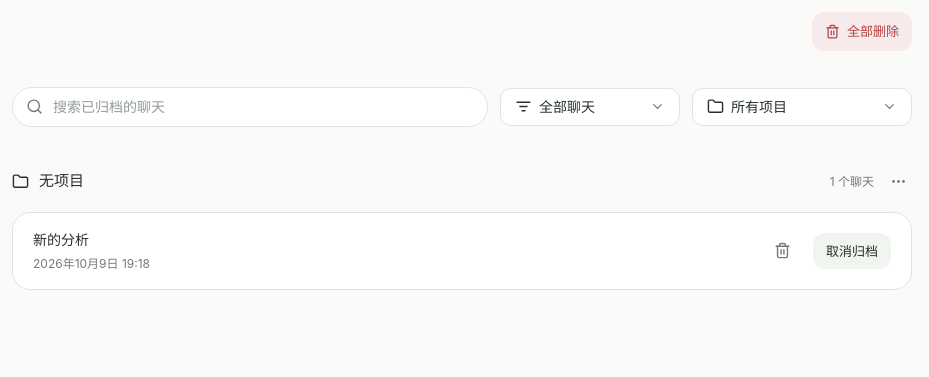
it: failed restore keeps history visible, reports the error and permits a successful retry
Click the button named "取消归档 新的分析" at {"x": 852, "y": 251}, box [813, 233, 891, 269]
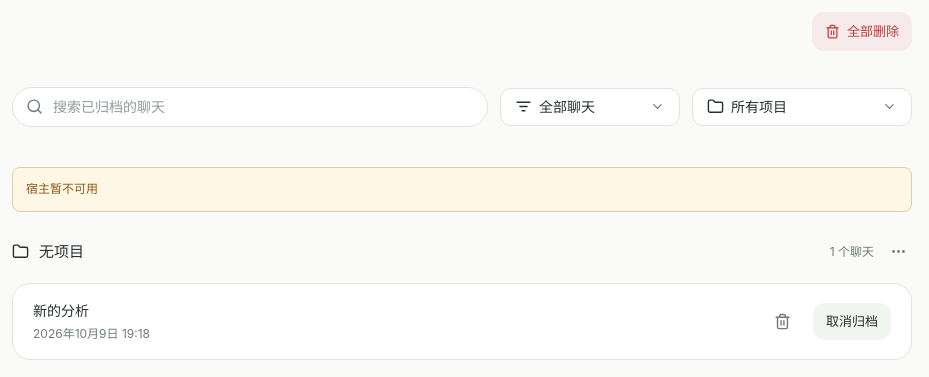
Now the message reads "宿主暂不可用", box [26, 181, 98, 196]
Click the button named "取消归档 新的分析" at {"x": 852, "y": 321}, box [813, 303, 891, 340]
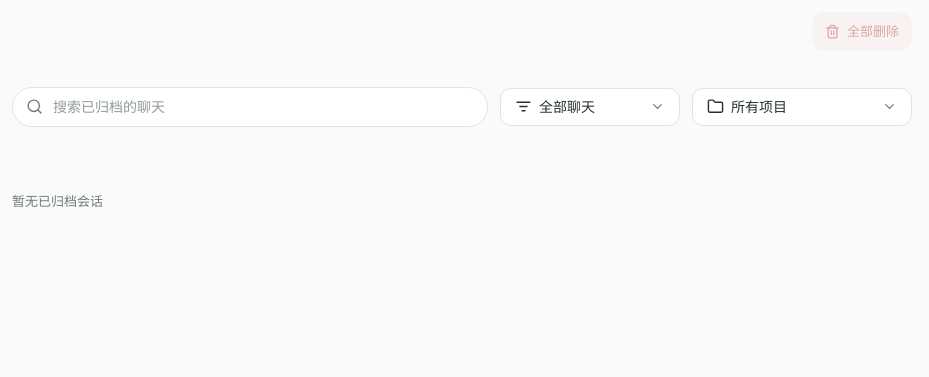
Now the text "暂无已归档会话" is shown, box [12, 193, 103, 209]
Now the message "宿主暂不可用" is gone
